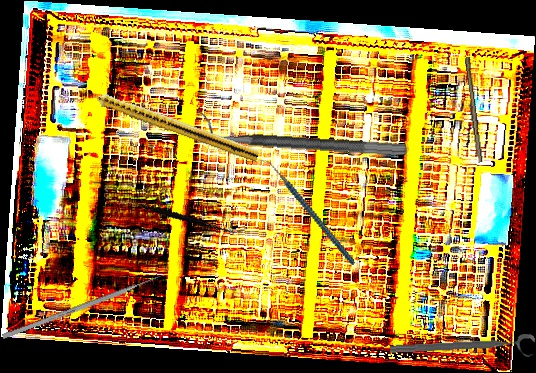Chopper: (256, 138, 356, 284)
Fixation Ring: (189, 110, 409, 158), (389, 333, 536, 366)
Handpiece: (78, 82, 262, 163)
Pusher: (1, 270, 172, 340)
Scalpel Handle: (461, 56, 485, 164)
Spatula Surgical: (118, 169, 246, 264)
